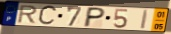5: (112, 8, 130, 30)
7: (66, 6, 84, 27)
C: (37, 4, 59, 27)
I: (139, 9, 151, 31)
P: (82, 7, 107, 28)
R: (16, 5, 39, 25)
